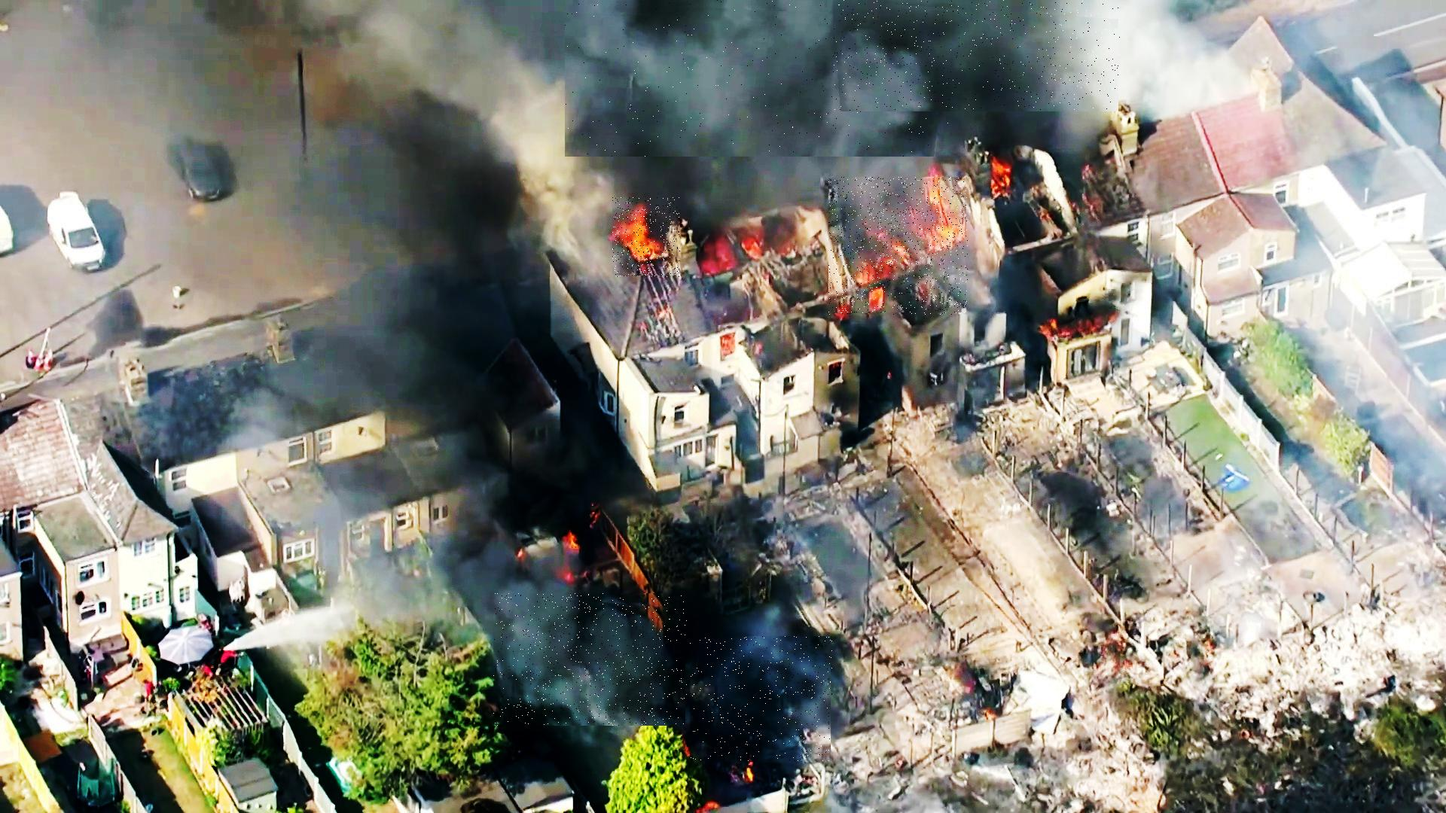fire: (829, 177, 968, 315), (612, 198, 680, 278)
smoke: (565, 0, 948, 157), (834, 0, 1121, 111), (494, 593, 687, 726), (690, 637, 833, 762)
